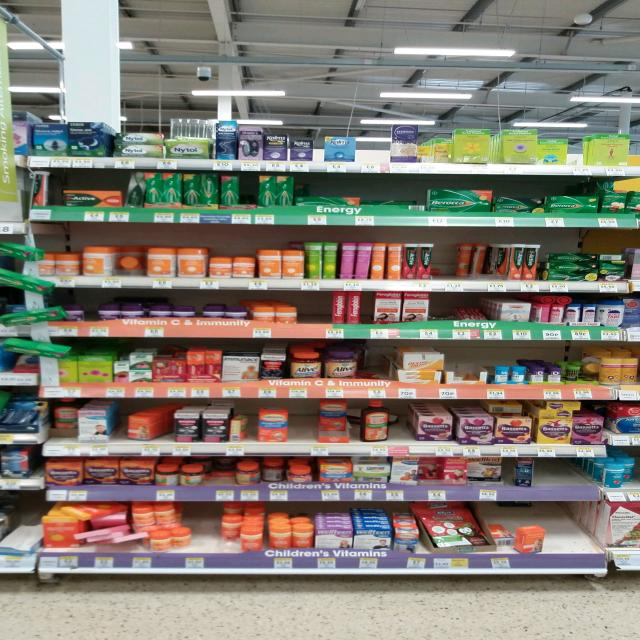void: (550, 505, 591, 570), (540, 458, 594, 502), (195, 505, 218, 573), (359, 122, 389, 174), (294, 401, 318, 458), (302, 292, 328, 338), (436, 289, 458, 341)
